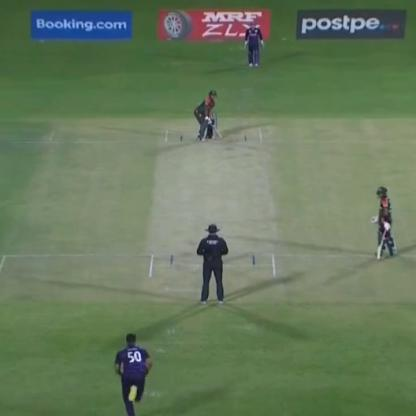bat: (204, 112, 222, 142), (375, 222, 387, 260)
pitch: (150, 116, 284, 294)
